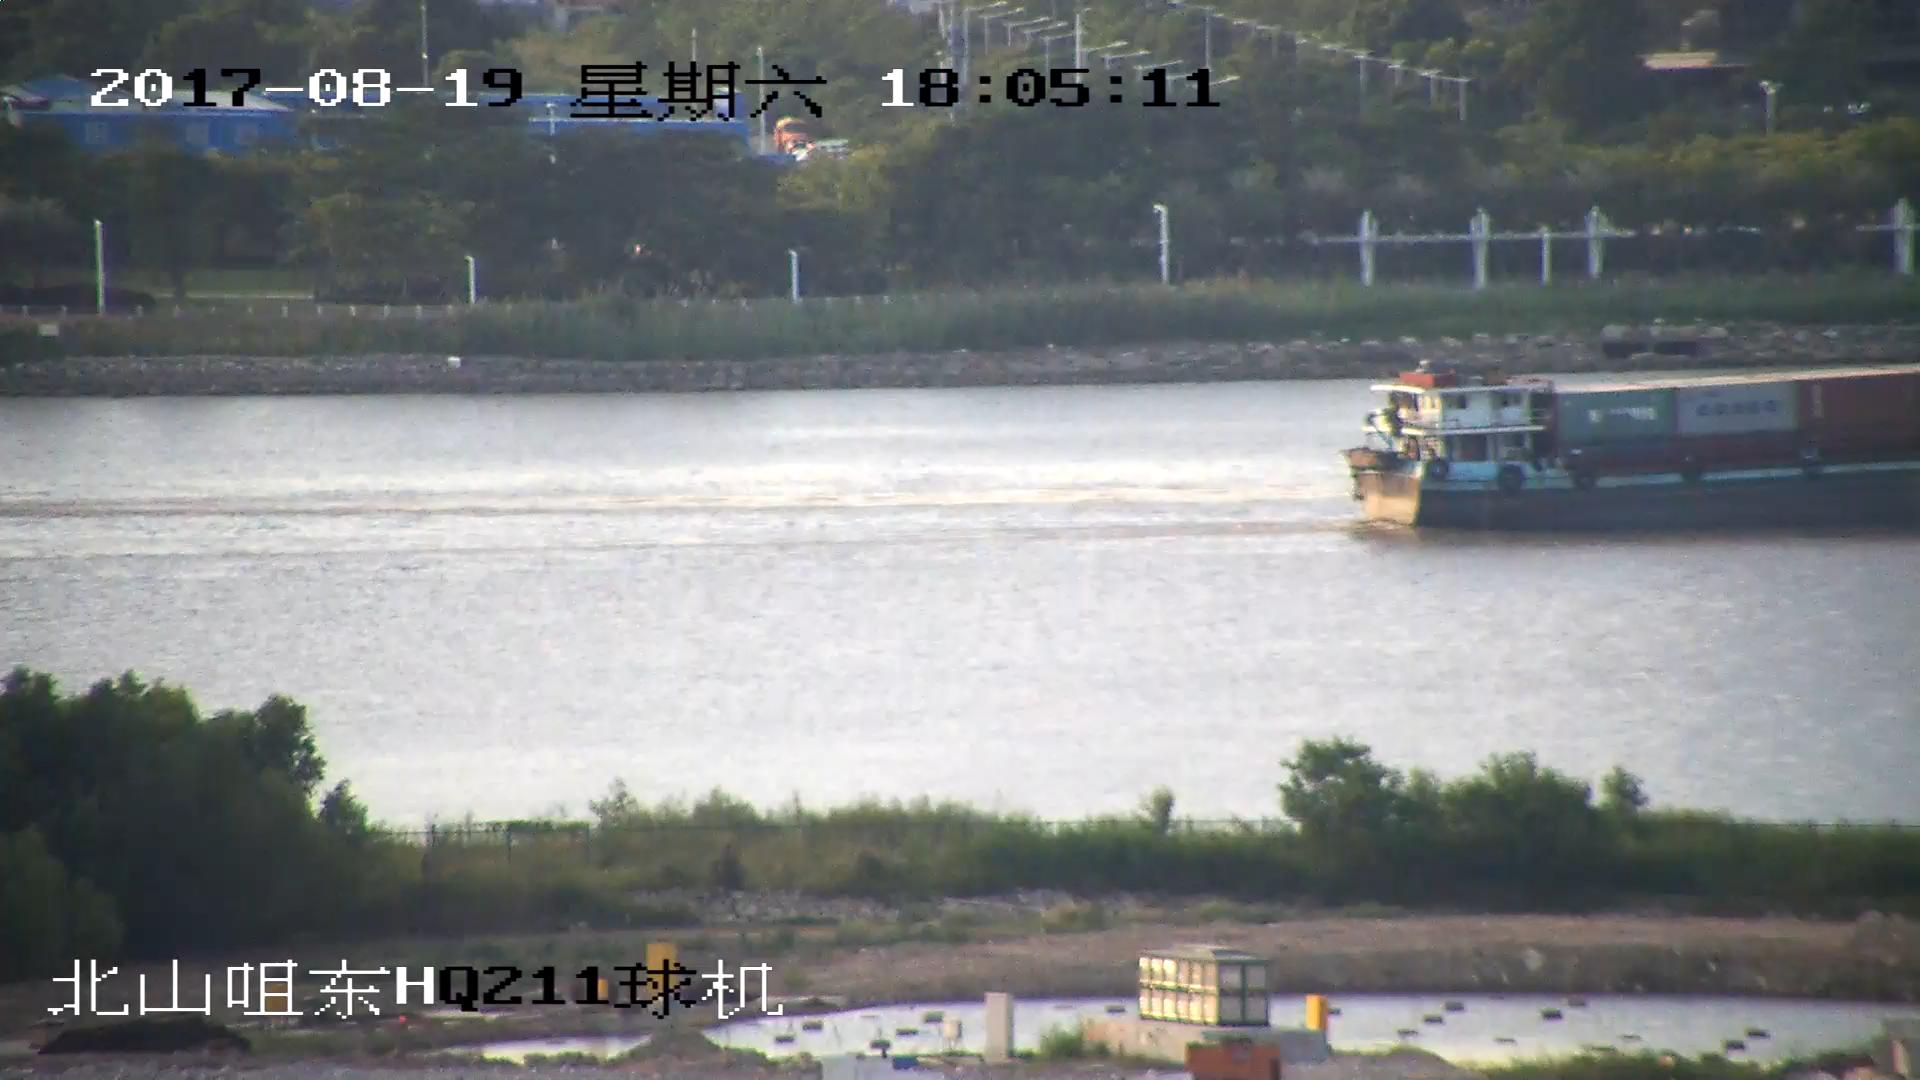container ship: (1339, 365, 1920, 535)
